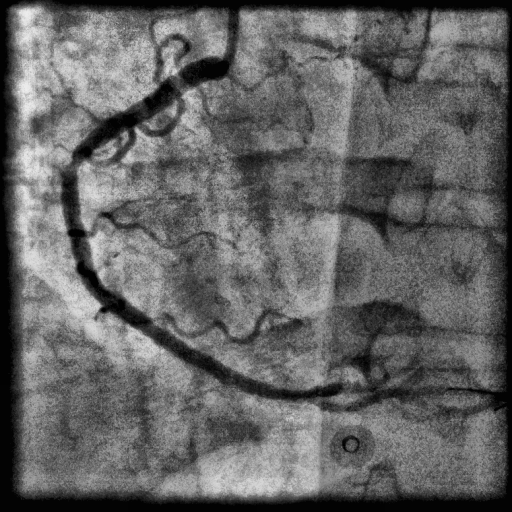rca: (60, 54, 308, 403)
